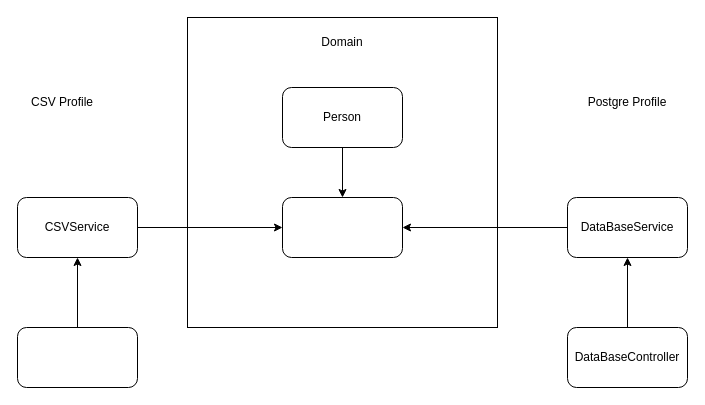
This 705x405 diagram has some shape labels left out. The centre of each missing label's shape, as x and y in pixels:
CsvController: [77,357]
PersonRepositoryMD: [342,227]
